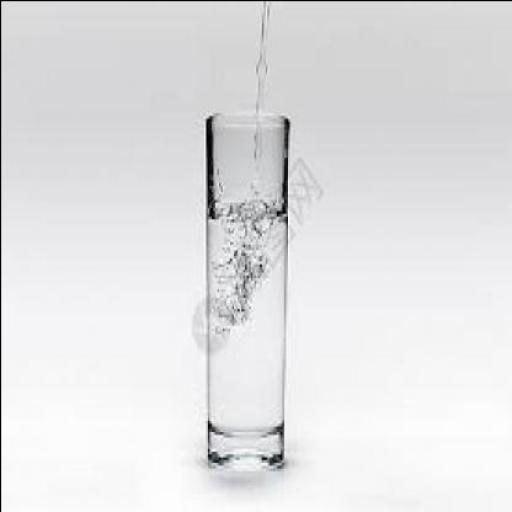glass: (201, 109, 283, 467)
